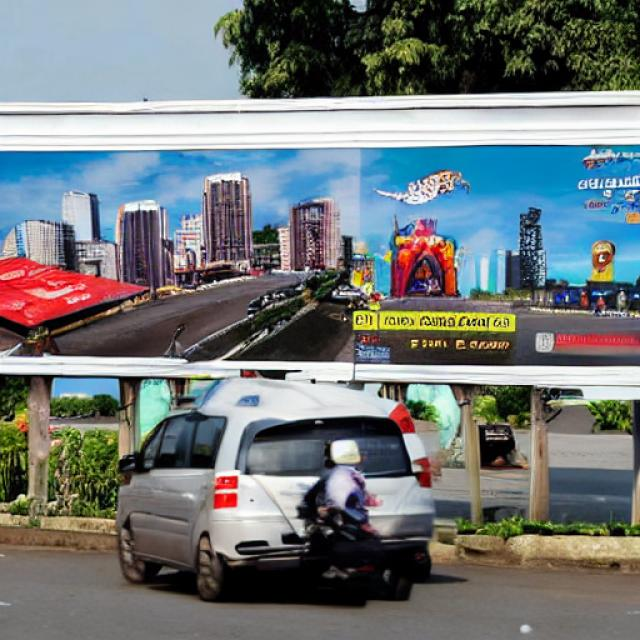Billboard: (0, 143, 640, 365)
